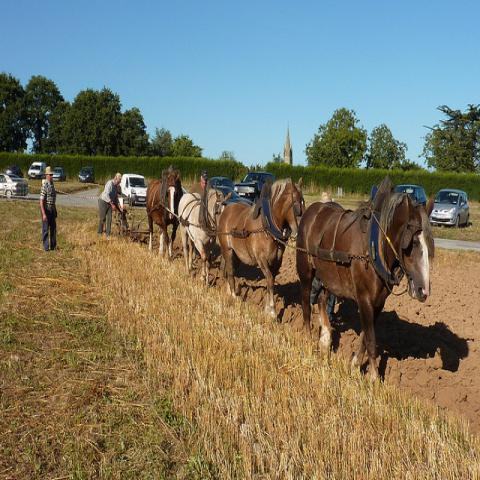car: (429, 188, 470, 228), (234, 171, 276, 204), (119, 173, 149, 206), (215, 186, 254, 207), (394, 184, 428, 208), (0, 172, 29, 200), (210, 177, 235, 190), (28, 162, 46, 179), (78, 165, 95, 182), (52, 166, 66, 182)
